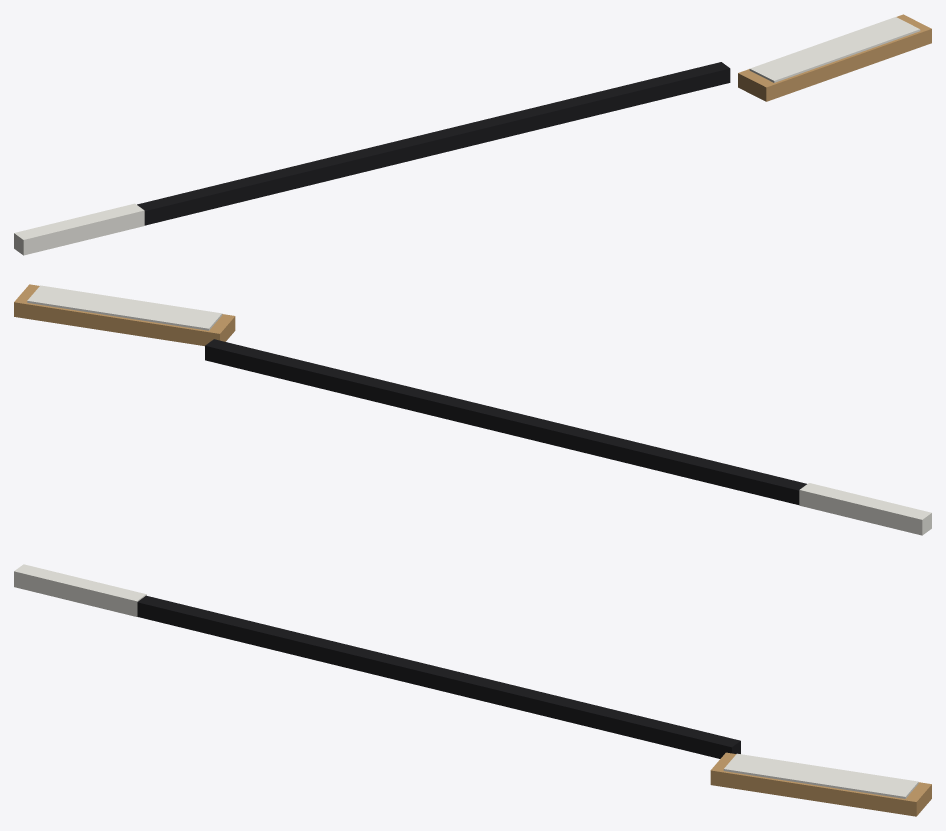
File: GS_HockeyStick_01.glb
The picture shows the model from 3 angles, top to bottom: view 1: azimuth 30°, elevation 25°; view 2: azimuth 150°, elevation 25°; view 3: azimuth 330°, elevation 25°; orthographic projection.
Parts seen in each view (by area): view 1: GS_HockeyStick_01; view 2: GS_HockeyStick_01; view 3: GS_HockeyStick_01.
Boxes of the visible parts, x1,y1,x2,y2 form: GS_HockeyStick_01: (14, 14, 931, 255); GS_HockeyStick_01: (14, 284, 931, 535); GS_HockeyStick_01: (14, 564, 931, 816).
Bounding box in the file's own units: 1.63 × 0.0285 × 0.128.
Materials: 1 (1 with a texture image).
